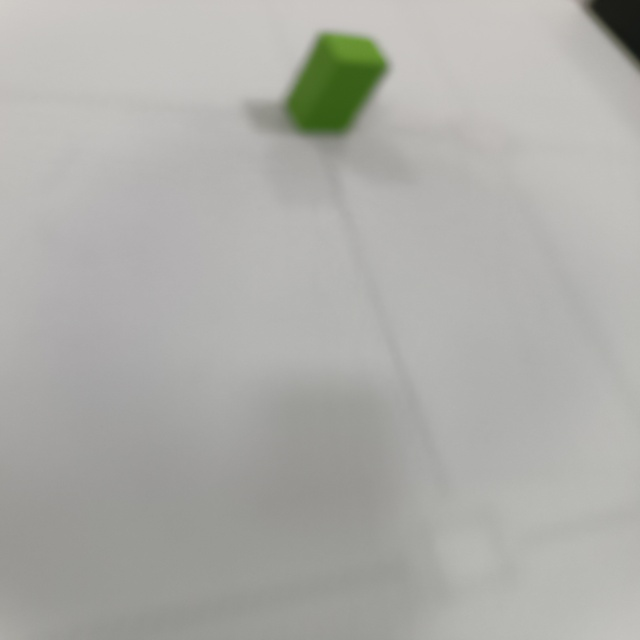green rectangular prism: (280, 31, 398, 139)
